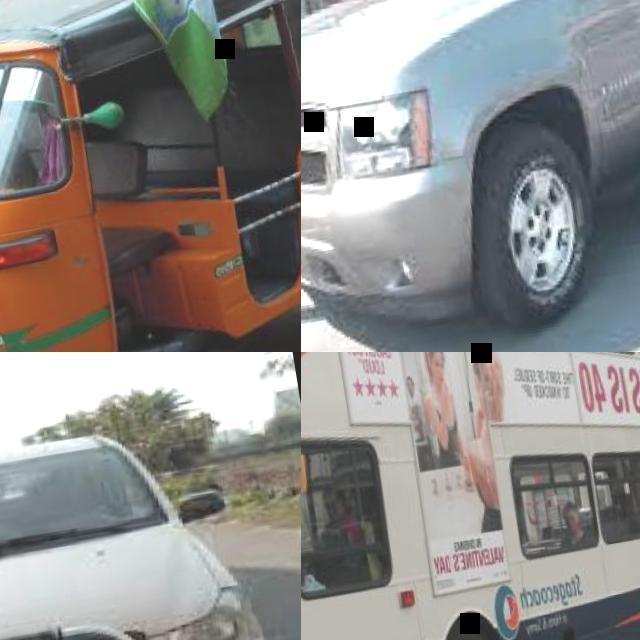car: (313, 0, 637, 327), (1, 430, 259, 639)
